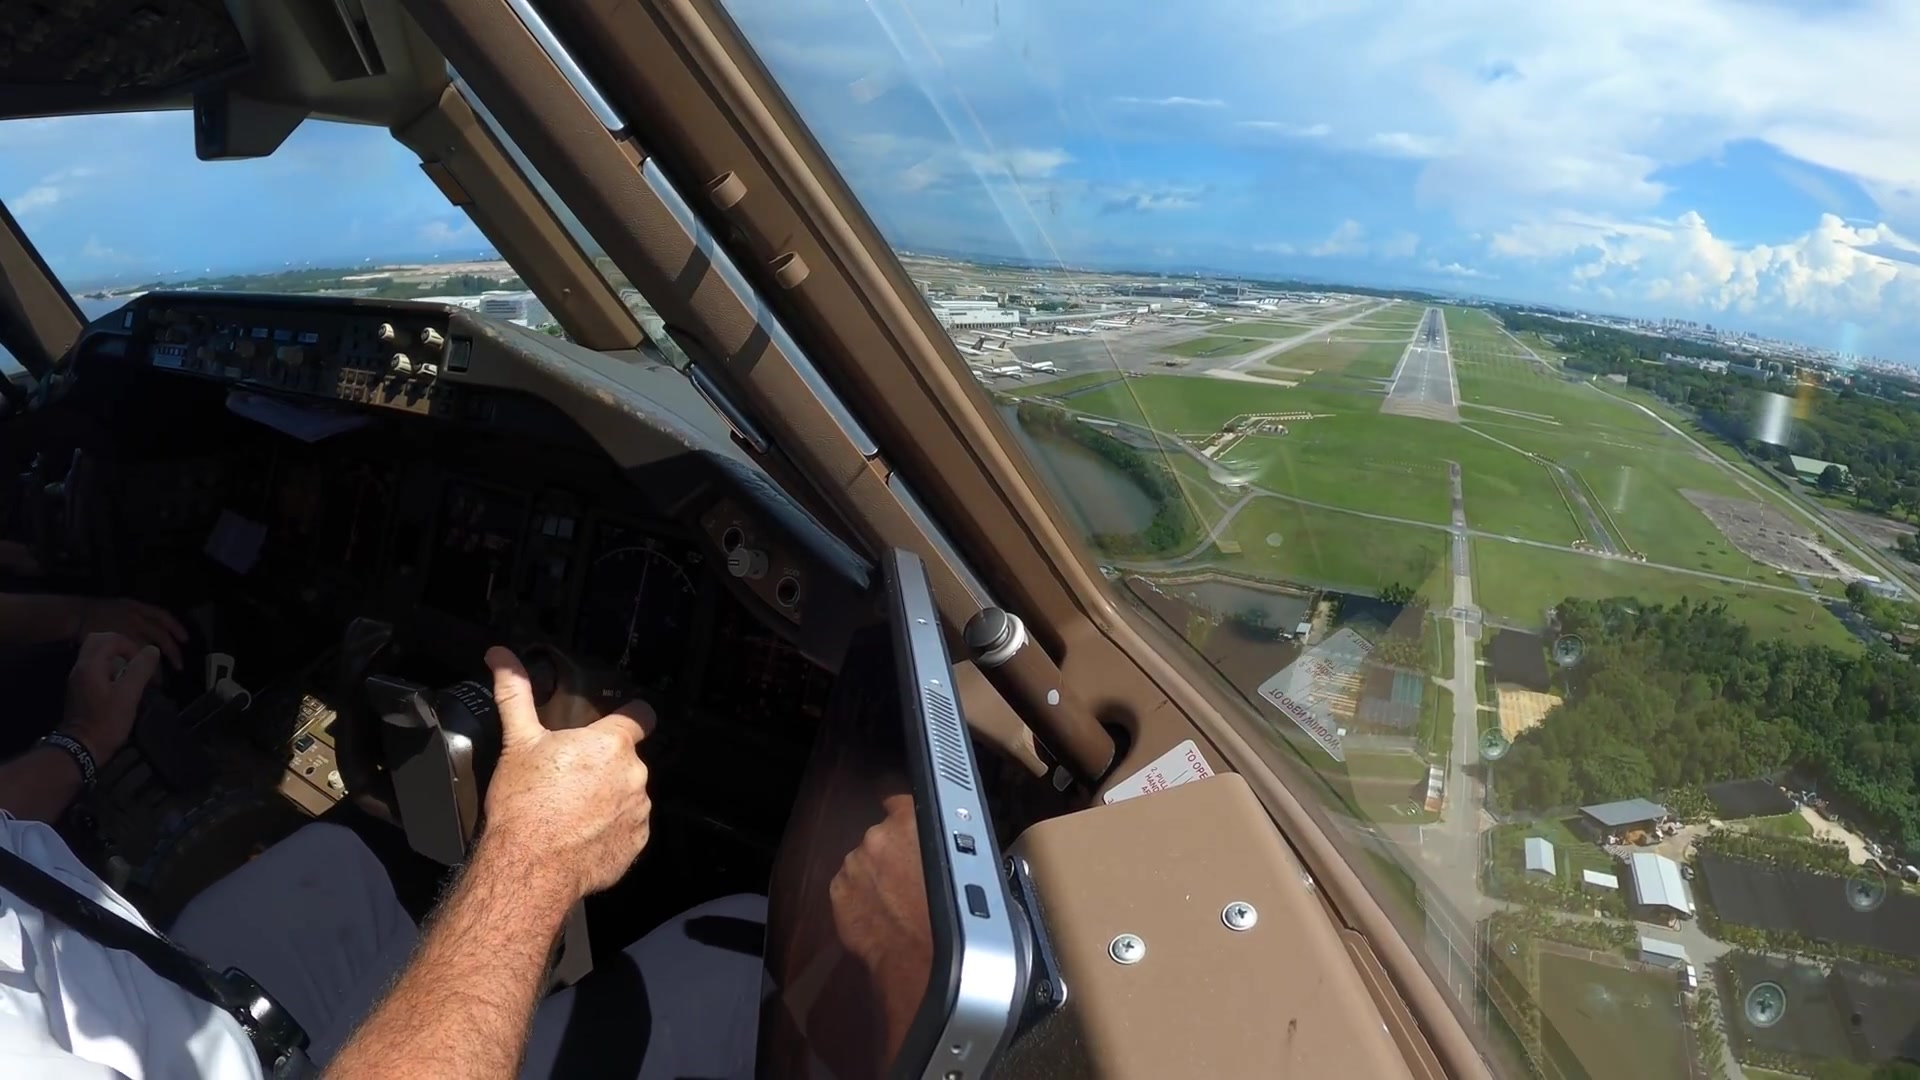runway: (1381, 305, 1457, 423)
